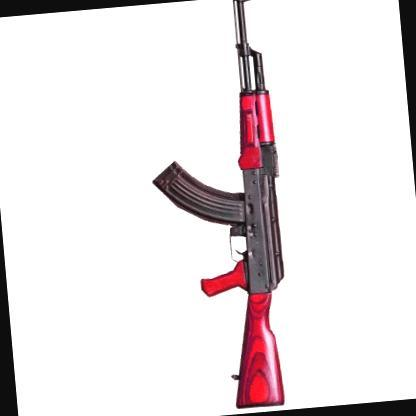rifle: (138, 0, 331, 416)
